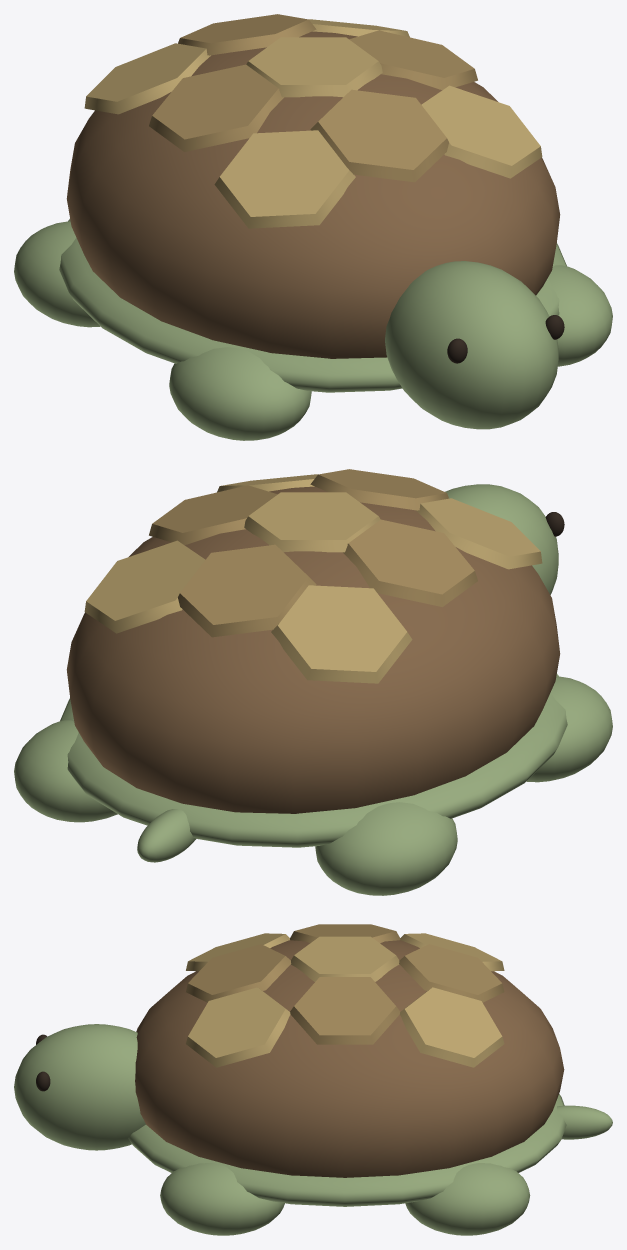
Rendered from tortoise.glb.
3 renders of one model, top to bottom at view 1: azimuth 30°, elevation 25°; view 2: azimuth 150°, elevation 25°; view 3: azimuth 270°, elevation 25°, orthographic. The views are drawn at different scales.
Visible parts, largest first — view 1: Shell, Head, ShellRim, ShellPlate1-1, Foot-0.280.25, ShellPlate10, ShellPlate0-1, ShellPlate11, ShellPlate00, ShellPlate-1-1, Foot-0.28-0.25, Foot0.280.25 (+3 smaller); view 2: Shell, ShellRim, ShellPlate-1-1, Foot-0.28-0.25, ShellPlate-10, ShellPlate0-1, ShellPlate-11, ShellPlate00, Foot0.28-0.25, ShellPlate1-1, Foot-0.280.25, ShellPlate01 (+4 smaller); view 3: Shell, Head, ShellRim, Foot0.280.25, Foot0.28-0.25, ShellPlate01, ShellPlate-11, ShellPlate11, ShellPlate10, ShellPlate-10, ShellPlate00, Tail (+3 smaller).
Part boxes in pixels (bbox=[...]): Shell: bbox=[66, 31, 560, 358]; Head: bbox=[385, 261, 558, 429]; ShellRim: bbox=[59, 219, 566, 392]; ShellPlate1-1: bbox=[214, 130, 355, 228]; Foot-0.280.25: bbox=[169, 347, 311, 440]; ShellPlate10: bbox=[310, 89, 448, 182]; ShellPlate0-1: bbox=[149, 64, 283, 151]; ShellPlate11: bbox=[421, 85, 542, 178]; ShellPlate00: bbox=[246, 37, 382, 97]; ShellPlate-1-1: bbox=[84, 43, 210, 114]; Foot-0.28-0.25: bbox=[14, 221, 100, 327]; Foot0.280.25: bbox=[548, 265, 612, 366]; Shell: bbox=[66, 486, 560, 813]; ShellRim: bbox=[60, 674, 567, 847]; ShellPlate-1-1: bbox=[271, 585, 412, 683]; Foot-0.28-0.25: bbox=[315, 802, 457, 895]; ShellPlate-10: bbox=[178, 544, 316, 637]; ShellPlate0-1: bbox=[343, 519, 477, 606]; ShellPlate-11: bbox=[84, 540, 205, 633]; ShellPlate00: bbox=[244, 492, 380, 552]; Foot0.28-0.25: bbox=[14, 720, 117, 822]; ShellPlate1-1: bbox=[416, 498, 542, 569]; Foot-0.280.25: bbox=[526, 676, 612, 782]; ShellPlate01: bbox=[149, 485, 277, 544]; Shell: bbox=[135, 940, 564, 1177]; Head: bbox=[14, 1024, 145, 1150]; ShellRim: bbox=[128, 1094, 566, 1206]; Foot0.280.25: bbox=[160, 1163, 284, 1235]; Foot0.28-0.25: bbox=[405, 1163, 530, 1235]; ShellPlate01: bbox=[290, 977, 400, 1044]; ShellPlate-11: bbox=[400, 987, 504, 1067]; ShellPlate11: bbox=[186, 987, 290, 1067]; ShellPlate10: bbox=[186, 944, 291, 1002]; ShellPlate-10: bbox=[399, 944, 504, 1002]; ShellPlate00: bbox=[291, 936, 399, 981]; Tail: bbox=[557, 1105, 612, 1139].
Size of the model in its own units: 0.8 by 0.509 by 1.23.
